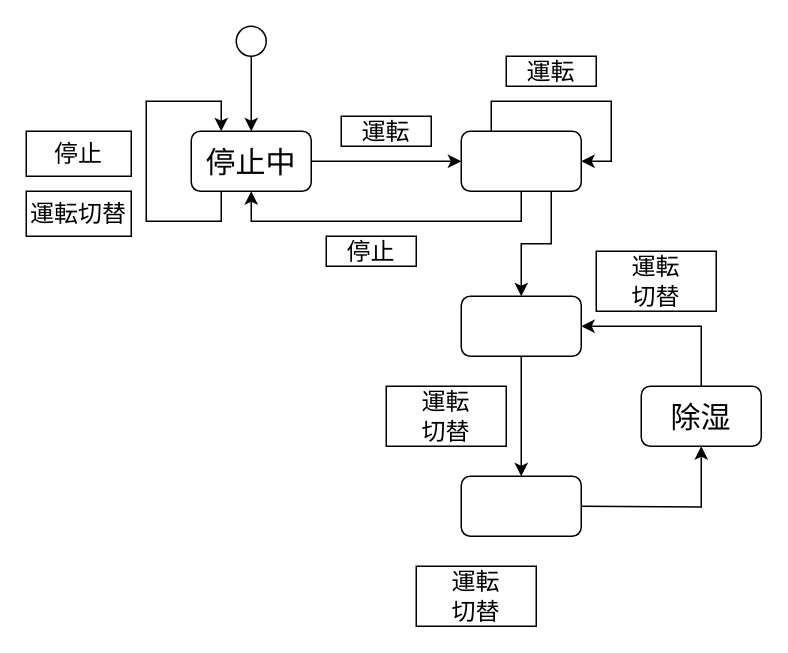
Image size: 788x653. Some labels were removed from this diagram. The shapes that lost their labels are listed below. From the top down, each one's centre as x and y in pixels, then its label:
[520,160]: 運転中
[520,325]: 冷房
[520,505]: 暖房
